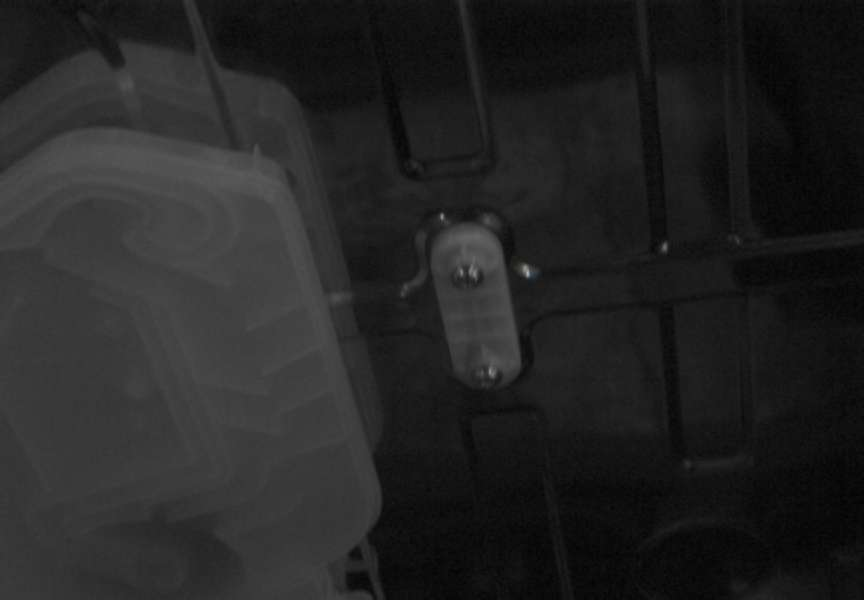screw: (451, 263, 484, 290), (471, 364, 503, 390)
